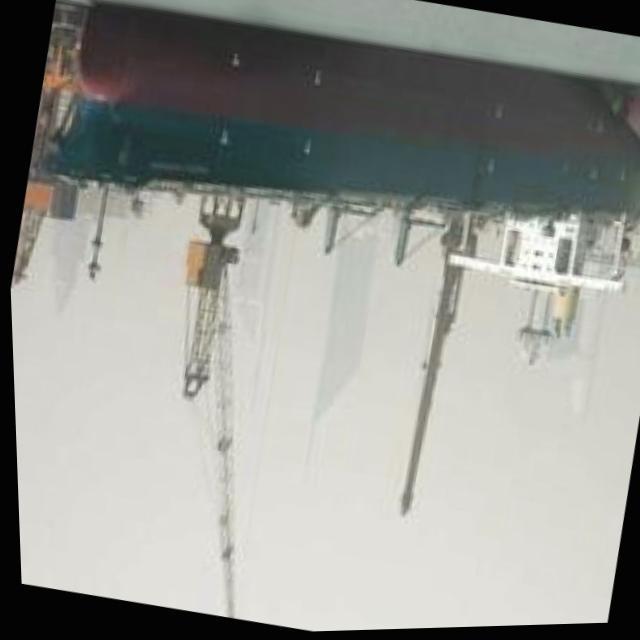ship2: (28, 0, 640, 531)
